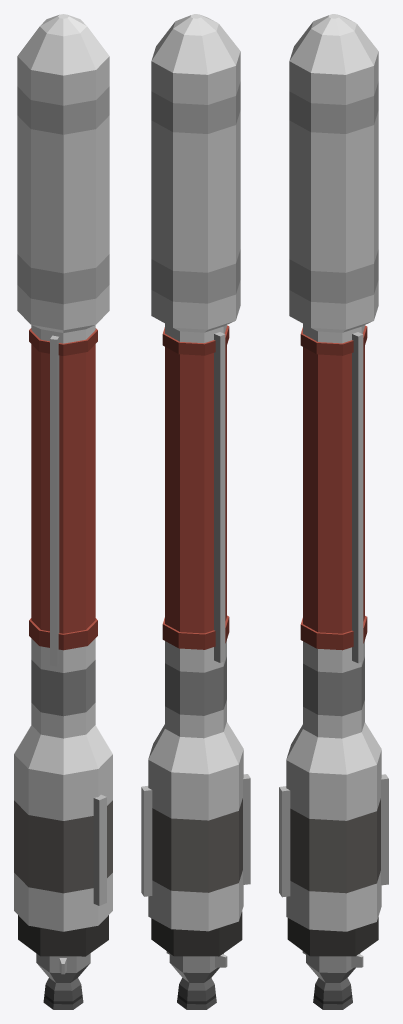
File: SM_Veh_Rocket_16.fbx
3 renders of one model, left to right at view 1: azimuth 90°, elevation 25°; view 2: azimuth 150°, elevation 25°; view 3: azimuth 330°, elevation 25°, orthographic.
Visible parts, largest first — view 1: SM_Veh_Rocket_16; view 2: SM_Veh_Rocket_16; view 3: SM_Veh_Rocket_16.
Boxes of the visible parts, box(x1,y1,x2,y2) form: SM_Veh_Rocket_16: box(14, 14, 112, 1009); SM_Veh_Rocket_16: box(141, 14, 250, 1009); SM_Veh_Rocket_16: box(279, 14, 388, 1009).
Bounding box in the file's own units: 1.26 × 13.81 × 1.26.
